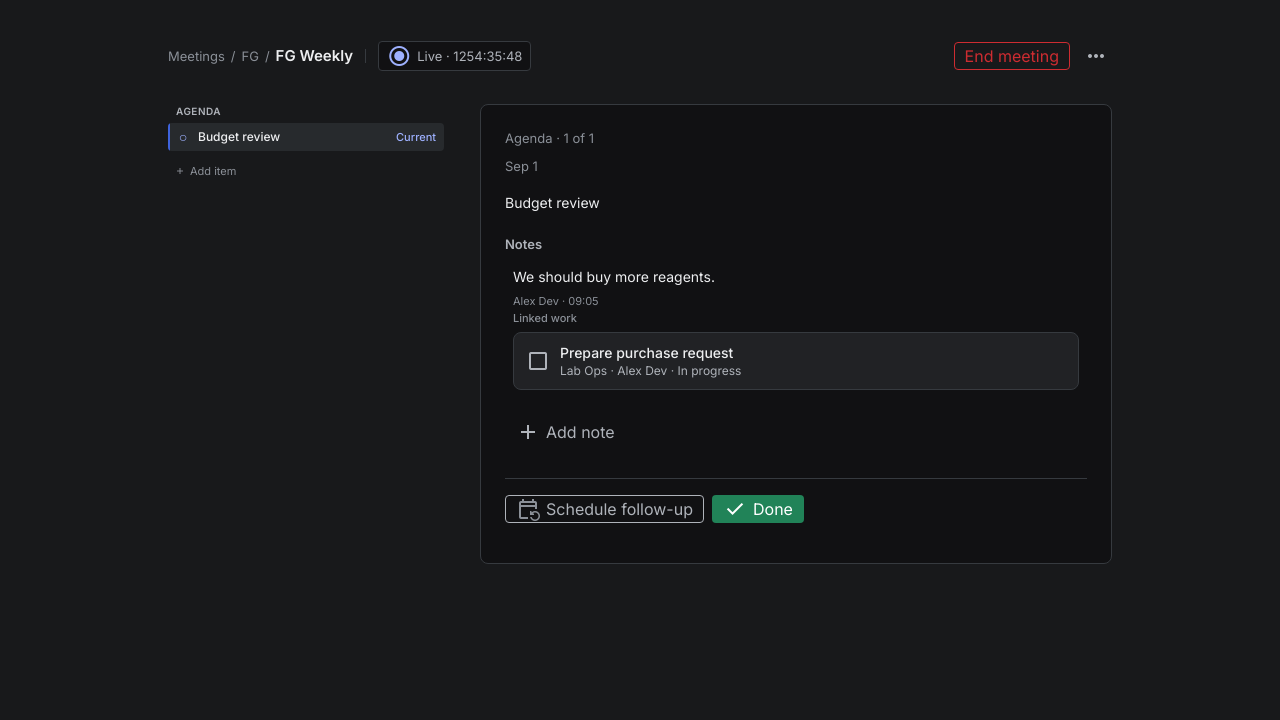
it: Meeting Inspector stale PATCH response reconciliation › does not let a delayed response overwrite a close/reopened Inspector selection
The width and height of the screenshot is (1280, 720).
Expected: the button "End meeting" is shown, x1=954 y1=42 x2=1070 y2=70
Click the button "Prepare purchase request Lab Ops · Alex Dev · In progress": (647, 352) x1=513 y1=332 x2=1079 y2=390
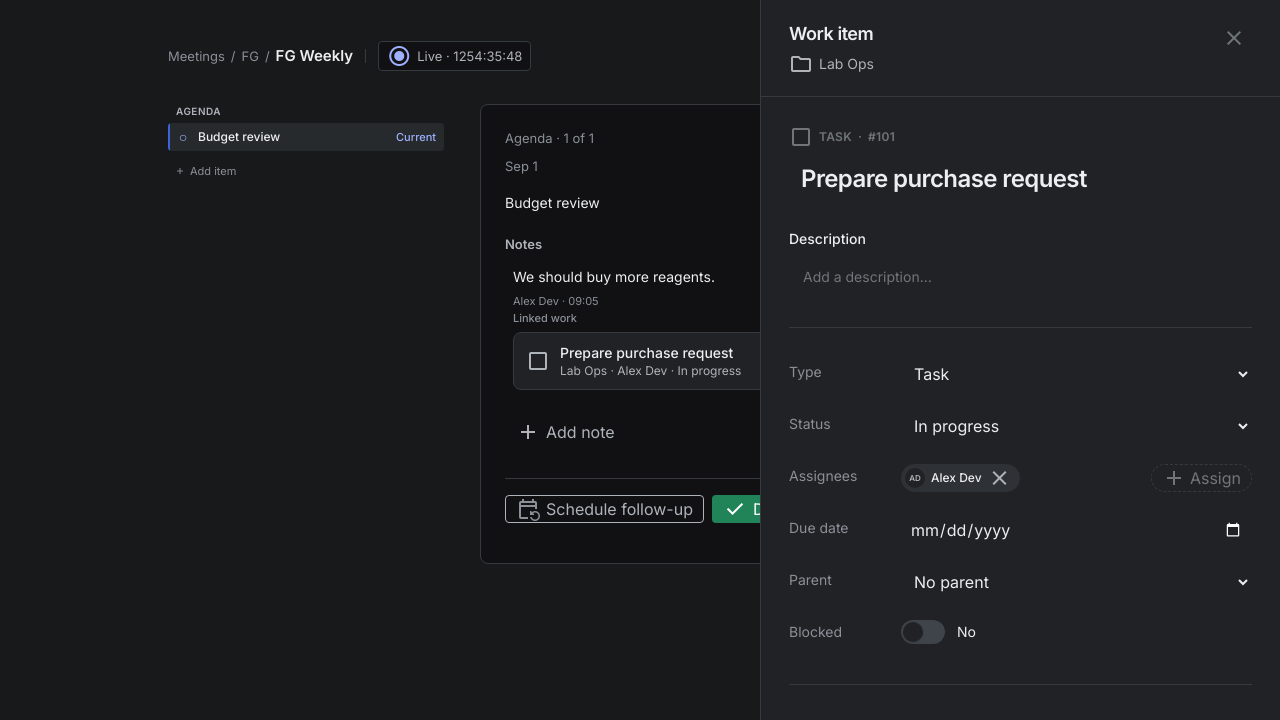
Now the element "Work item" is shown, box x1=760 y1=0 x2=1279 y2=719
Now the button "Prepare purchase request" is shown, box x1=801 y1=164 x2=1087 y2=193
Now the dropdown named "Status" shows "In progress"
Select "Todo" in the dropdown named "Status": (1076, 426) x1=901 y1=408 x2=1252 y2=444
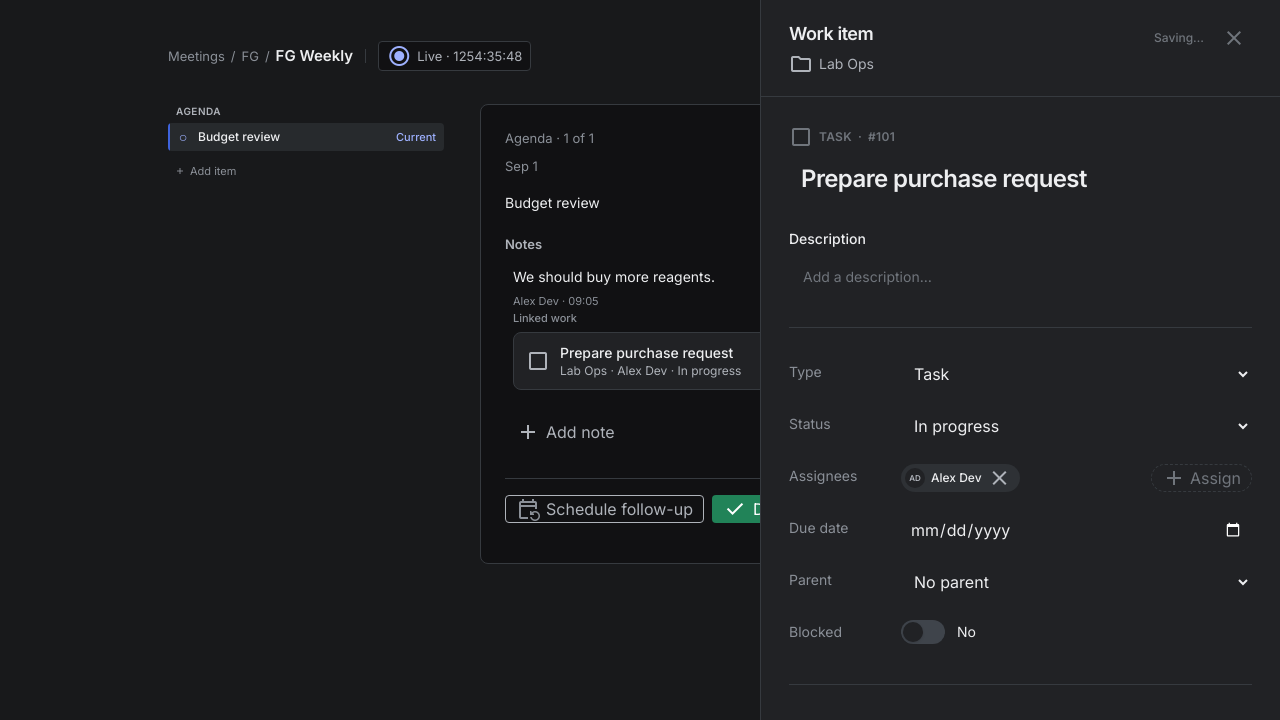
Click the button named "Close work item": (1234, 38) x1=1216 y1=20 x2=1252 y2=56
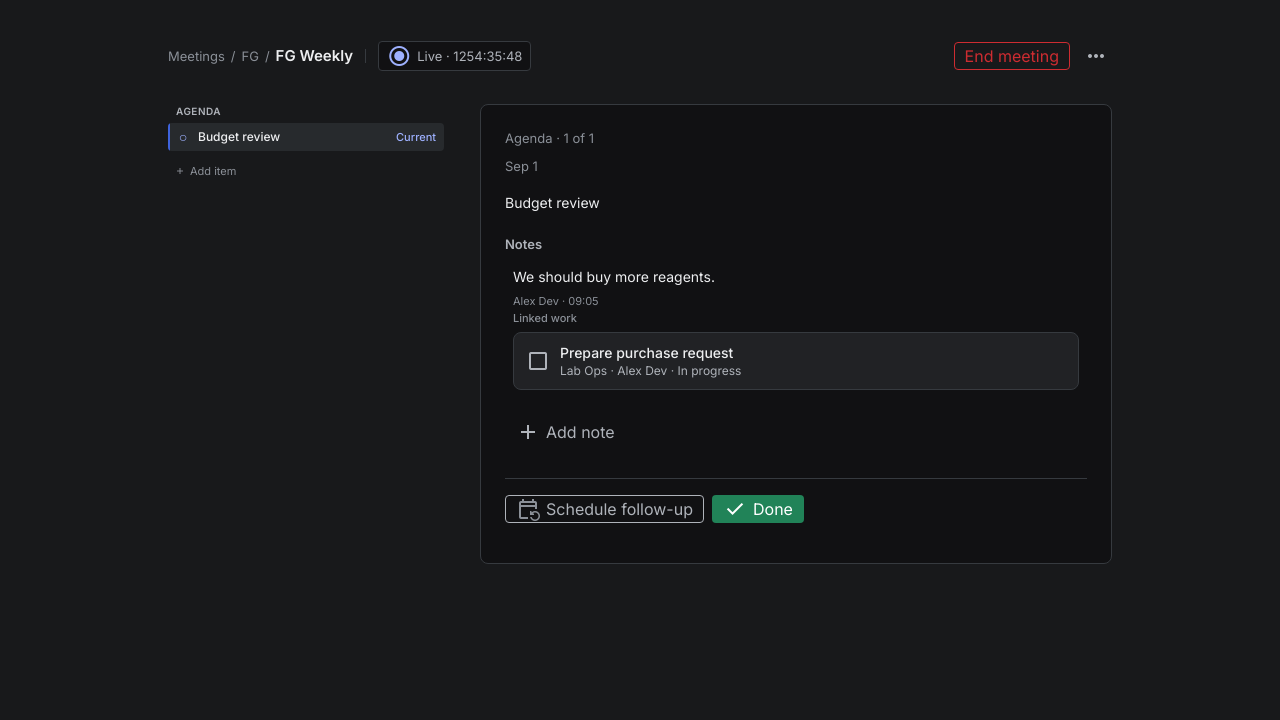
Now the heading "Work item" is gone
Click the button "Prepare purchase request Lab Ops · Alex Dev · In progress": (647, 352) x1=513 y1=332 x2=1079 y2=390
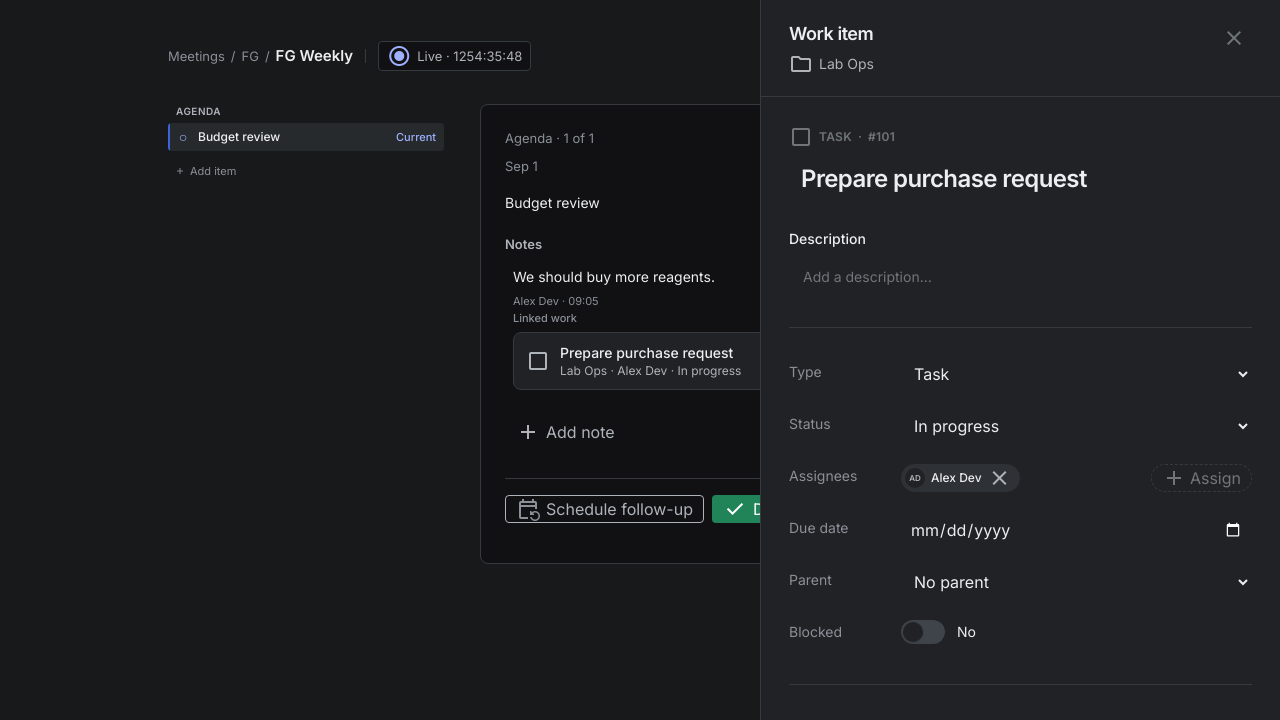
Now the element "Work item" is shown, box x1=760 y1=0 x2=1279 y2=719
Now the button "Prepare purchase request" is shown, box x1=801 y1=164 x2=1087 y2=193
Now the dropdown named "Status" shows "In progress", box x1=901 y1=408 x2=1252 y2=444
